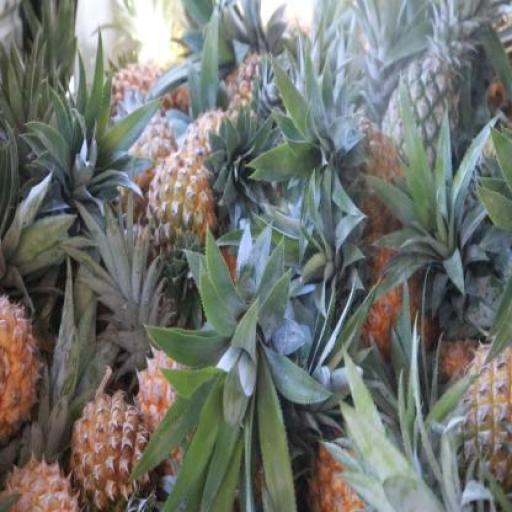------------------------------: (148, 146, 216, 279)
Pineapple - v8 v1: (73, 394, 149, 512), (2, 292, 44, 439)
